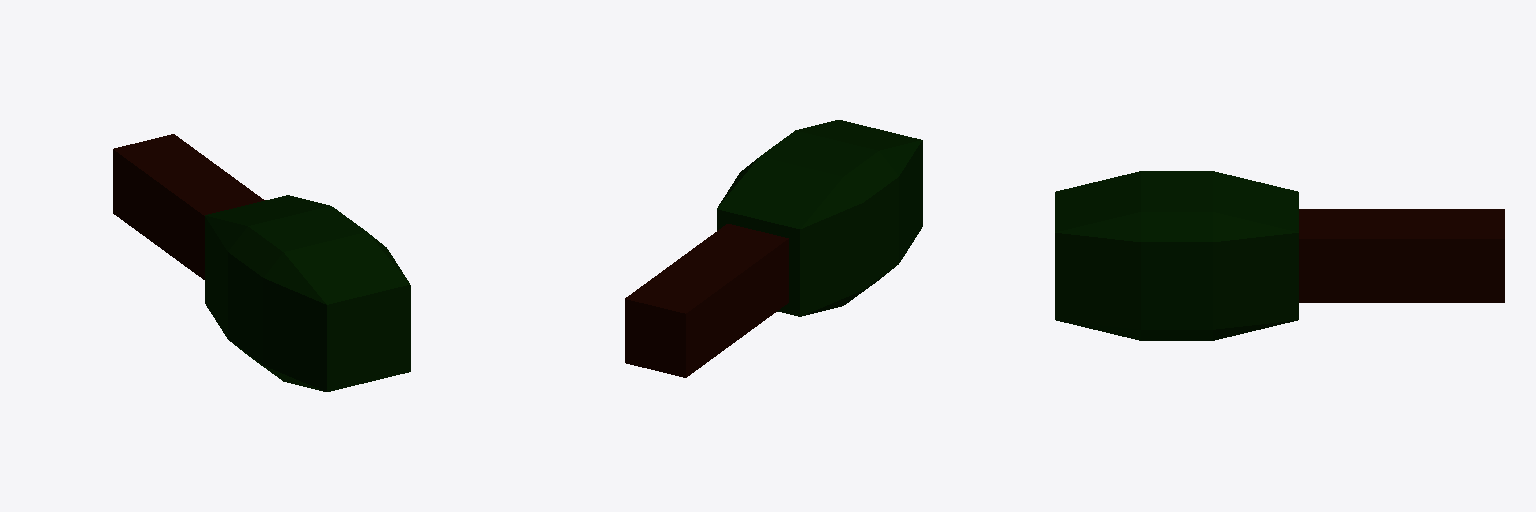
File: apple_tree_25.obj
3 views of the same model, side by side, from view 1: azimuth 30°, elevation 25°; view 2: azimuth 150°, elevation 25°; view 3: azimuth 270°, elevation 25° (orthographic).
Visible parts, largest first — view 1: Cube; view 2: Cube; view 3: Cube.
Boxes of the visible parts, box(x1,y1,x2,y2) form: Cube: box(113, 134, 410, 391); Cube: box(625, 120, 922, 377); Cube: box(1055, 171, 1504, 340).
Size of the model in its own units: 1.06 by 1.06 by 3.36.